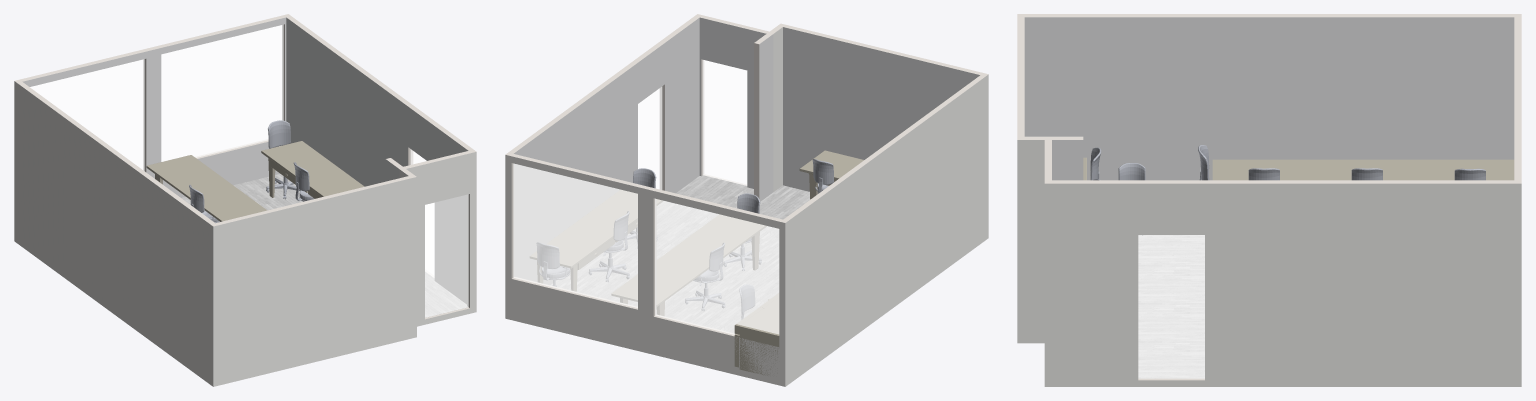
The model's file is Room_232.glb.
3 renders of one model, left to right at view 1: azimuth 30°, elevation 25°; view 2: azimuth 150°, elevation 25°; view 3: azimuth 270°, elevation 25°, orthographic. The views are drawn at different scales.
Visible parts, largest first — view 1: wall_4, wall_1, wall_7, window_1, window_3, window_0, window_2, wall_13, door_0, door_2, wall_2, table_other_rect1 (+9 smaller); view 2: wall_1, wall_7, wall_15, wall_3, window_1, window_3, window_0, window_2, floor_Dining_Room, door_0, door_2, table_other_rect1 (+21 smaller); view 3: wall_0, wall_9, door_1, floor_Dining_Room, door_3, wall_6, storage_cabinet_mid50, wall_8, wall_10, wall_14, wall_5, wall_16 (+1 smaller).
Boxes of the visible parts, <box> form: wall_4: <box>213,177,416,386</box>; wall_1: <box>14,81,213,386</box>; wall_7: <box>286,17,468,303</box>; window_1: <box>161,25,283,161</box>; window_3: <box>161,25,283,161</box>; window_0: <box>30,59,144,170</box>; window_2: <box>30,59,144,170</box>; wall_13: <box>22,17,286,197</box>; door_0: <box>425,194,468,317</box>; door_2: <box>425,195,468,317</box>; wall_2: <box>406,152,476,326</box>; table_other_rect1: <box>146,155,266,221</box>; wall_1: <box>785,74,988,386</box>; wall_7: <box>514,18,699,284</box>; wall_15: <box>783,27,979,193</box>; wall_3: <box>505,155,785,386</box>; window_1: <box>513,164,637,307</box>; window_3: <box>513,164,637,307</box>; window_0: <box>655,199,778,334</box>; window_2: <box>655,199,778,334</box>; floor_Dining_Room: <box>551,175,810,332</box>; door_0: <box>703,60,746,185</box>; door_2: <box>703,60,746,185</box>; table_other_rect1: <box>611,214,766,315</box>; wall_0: <box>1044,183,1521,386</box>; wall_9: <box>1024,17,1514,180</box>; door_1: <box>1138,235,1204,378</box>; floor_Dining_Room: <box>1138,235,1204,378</box>; door_3: <box>1138,235,1204,378</box>; wall_6: <box>1017,140,1044,343</box>; storage_cabinet_mid50: <box>1212,159,1514,180</box>; wall_8: <box>1045,180,1520,380</box>; wall_10: <box>1018,14,1520,17</box>; wall_14: <box>1514,14,1521,183</box>; wall_5: <box>1052,140,1083,180</box>; wall_16: <box>1017,14,1024,139</box>.
Size of the model in its own units: 5.35 by 2.99 by 6.73.
Materials: 35 (1 with a texture image).
